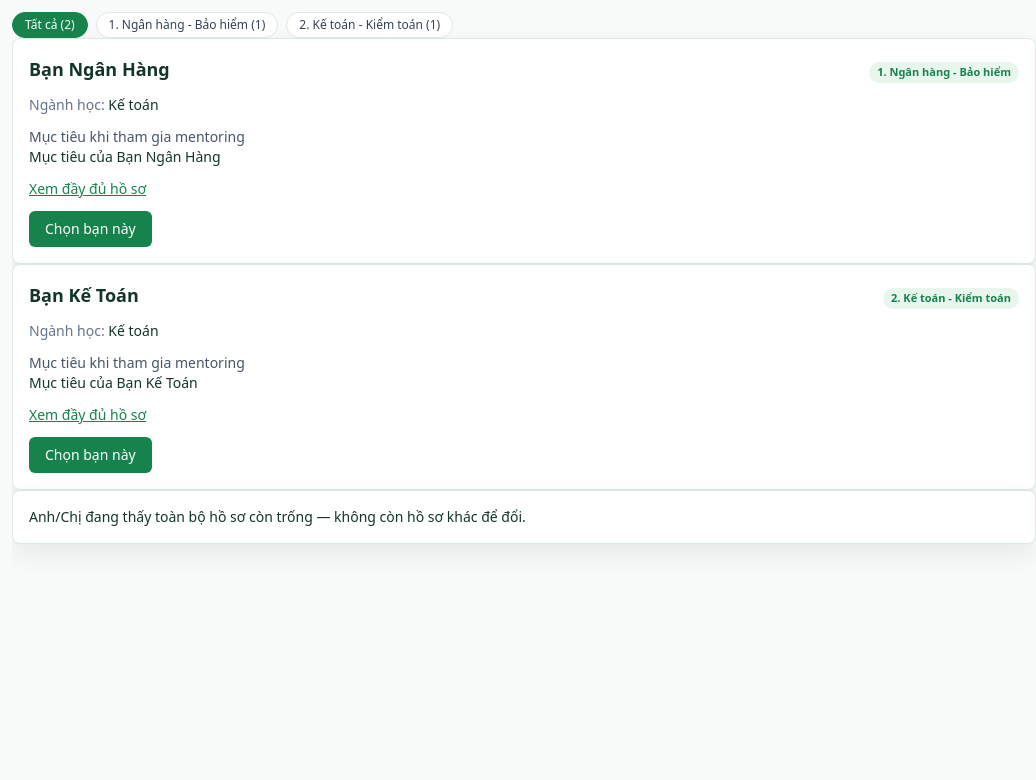
Test: lọc và xem hồ sơ › “Xem đầy đủ hồ sơ” gọi đúng token + mã đơn của thẻ đó và hiện các câu tự luận; lỗi thì báo, không hiện gì sai
Click the button "Xem đầy đủ hồ sơ" below "Mục tiêu của Bạn Kế Toán" at x=88, y=415, box top-left (29, 405), bottom-right (146, 425)
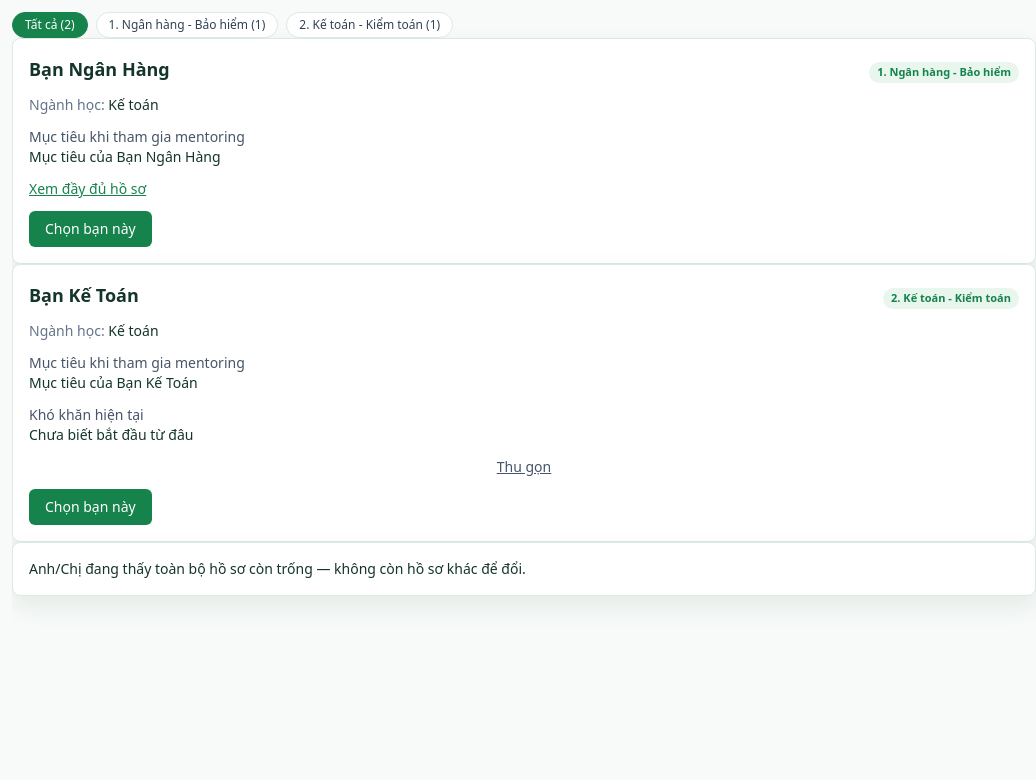
Check: the element with test id "mentee-detail" shows "Chưa biết bắt đầu từ đâu", box top-left (29, 425), bottom-right (194, 444)
Click the button "Xem đầy đủ hồ sơ" at x=88, y=189, box top-left (29, 179), bottom-right (146, 199)
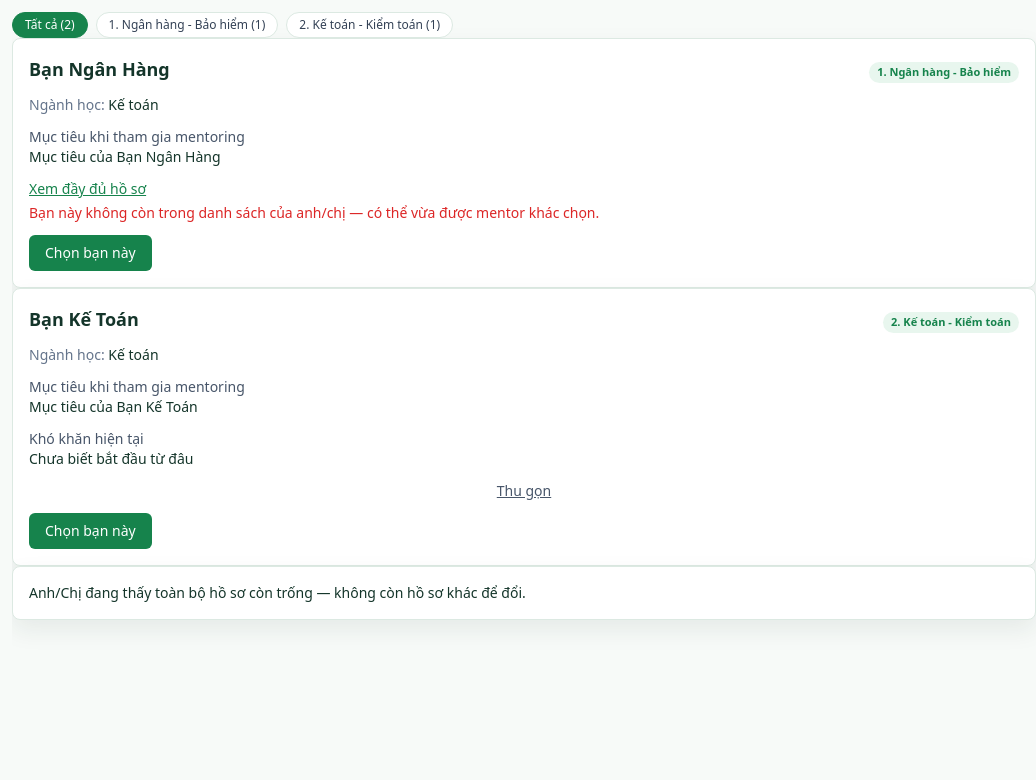
Check: the message shows "không còn trong danh sách", box top-left (29, 203), bottom-right (599, 222)
